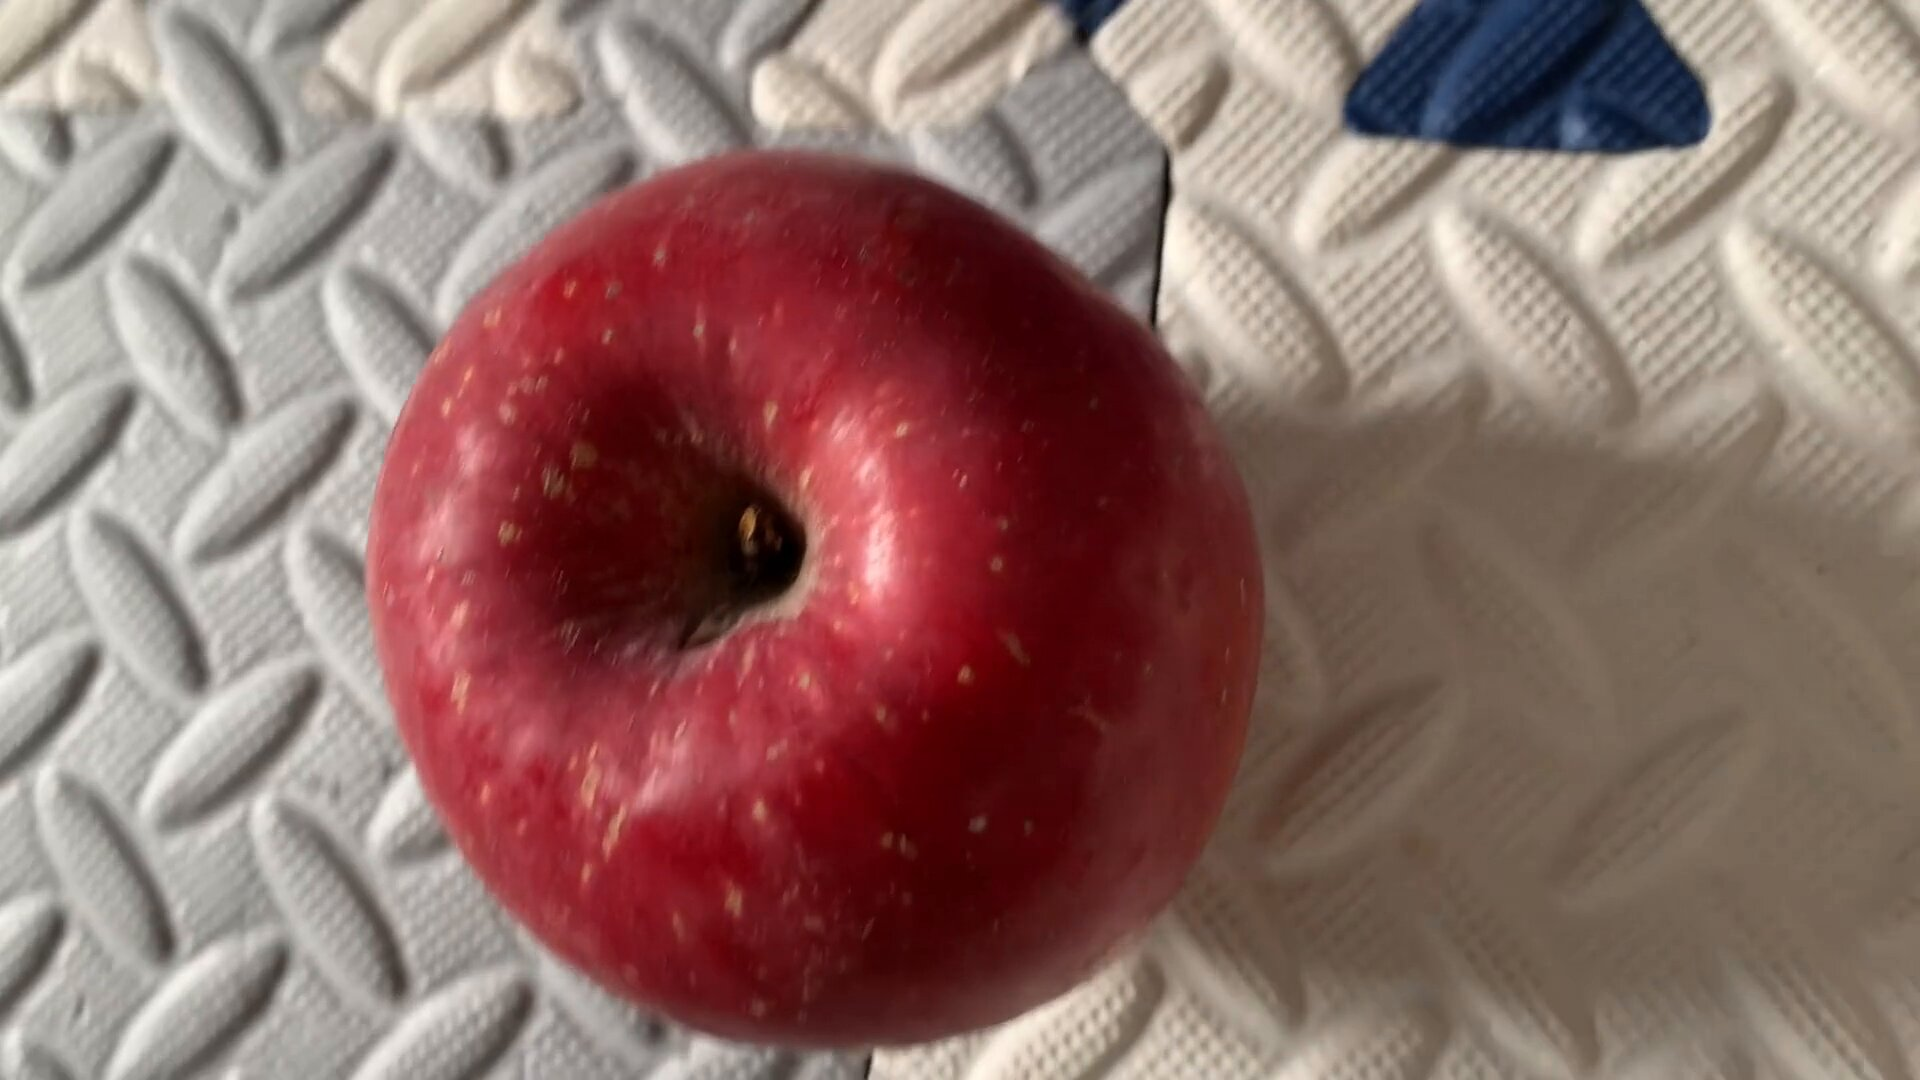不可回收水果: (353, 131, 1265, 1051)
